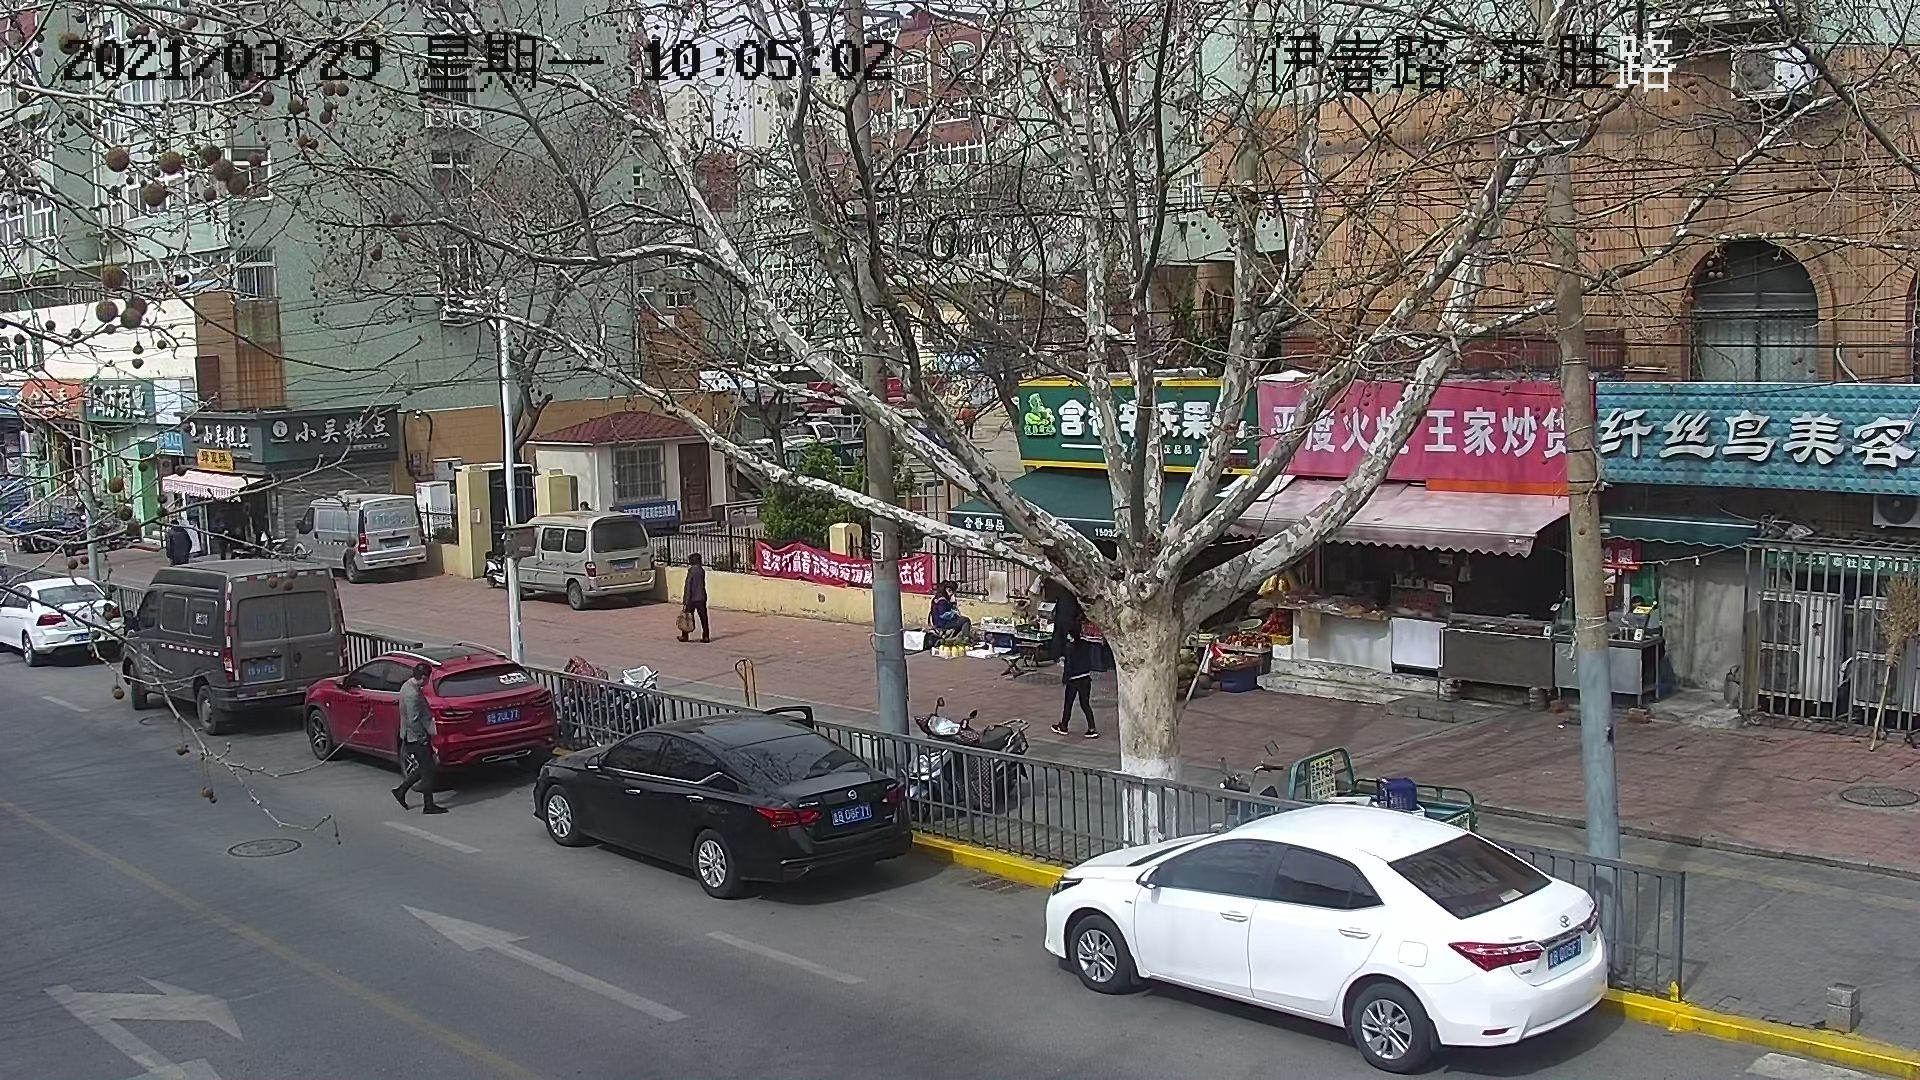chair: (1015, 640, 1044, 673), (997, 653, 1023, 680)
